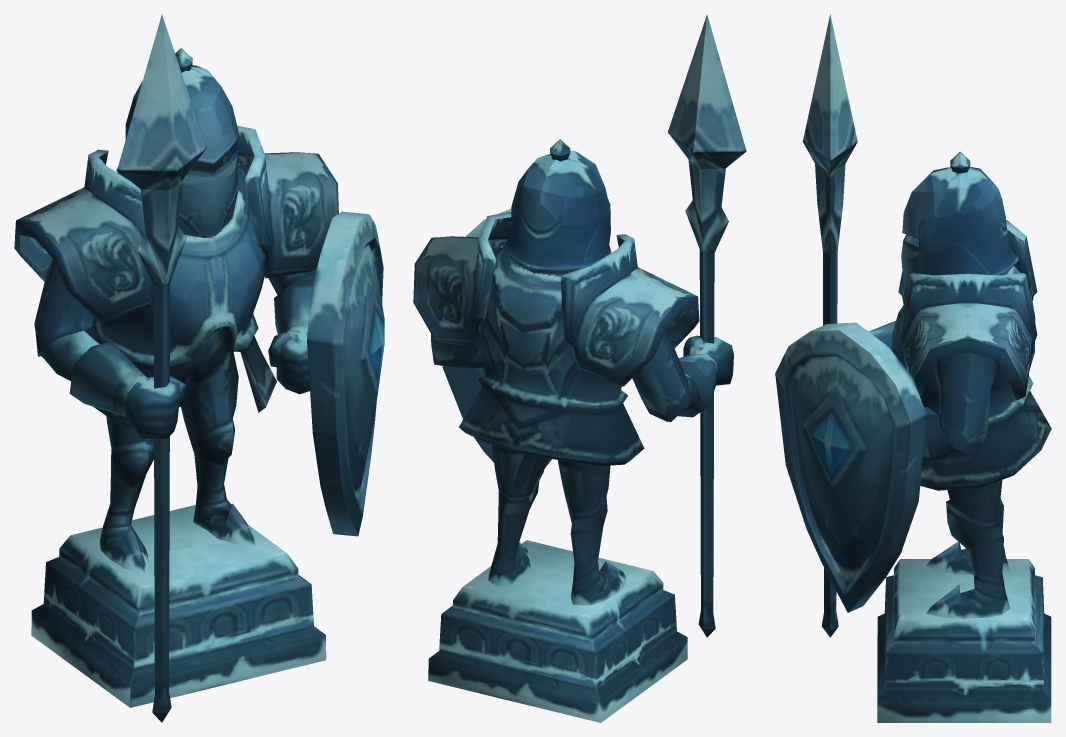
File: FB7_diaosu02.FBX
3 views of the same model, side by side, from view 1: azimuth 30°, elevation 25°; view 2: azimuth 150°, elevation 25°; view 3: azimuth 270°, elevation 25° (orthographic). The views are drawn at different scales.
Parts seen in each view (by area): view 1: FB2_diaosu02_001, FB2_diaosu02_005, FB2_diaosu02_004, FB2_diaosu02_002, FB2_diaosu02_003; view 2: FB2_diaosu02_001, FB2_diaosu02_004, FB2_diaosu02_003, FB2_diaosu02_005; view 3: FB2_diaosu02_001, FB2_diaosu02_005, FB2_diaosu02_004, FB2_diaosu02_003.
Boxes of the visible parts, x1,y1,x2,y2 form: FB2_diaosu02_001: (14,87,338,707); FB2_diaosu02_005: (307,211,384,536); FB2_diaosu02_004: (117,14,206,722); FB2_diaosu02_002: (268,284,312,394); FB2_diaosu02_003: (125,48,221,129); FB2_diaosu02_001: (413,182,733,722); FB2_diaosu02_004: (668,14,746,637); FB2_diaosu02_003: (518,139,610,224); FB2_diaosu02_005: (442,208,551,467); FB2_diaosu02_001: (868,191,1051,722); FB2_diaosu02_005: (775,322,926,612); FB2_diaosu02_004: (802,14,857,637); FB2_diaosu02_003: (912,151,1002,214).
Bounding box in the file's own units: 411 × 883 × 353.
